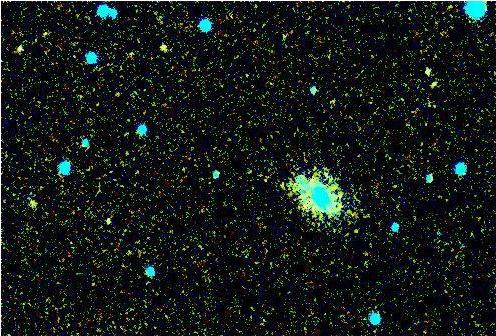star: (289, 170, 319, 200)
